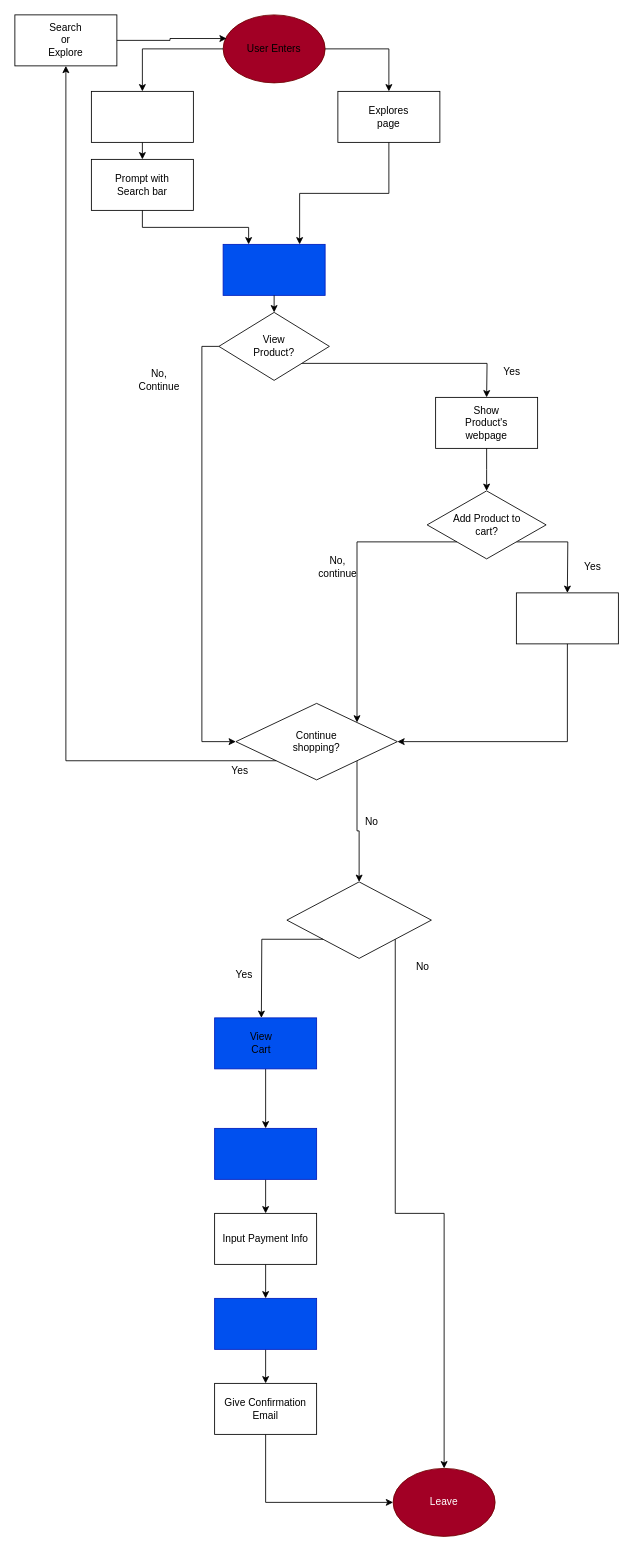
The diagram is 633 pixels wide and 1551 high, and some of its shapes have lost their labels. Each missing label, with the centre of its shape:
"Add to cart confirmation" belongs at pixel 567 618.
"Checkout?" belongs at pixel 358 919.
"Confirmation Screen" belongs at pixel 265 1323.
"Product Viewing" belongs at pixel 273 269.
"Searches Product" belongs at pixel 142 116.
"View Payment" belongs at pixel 265 1153.
